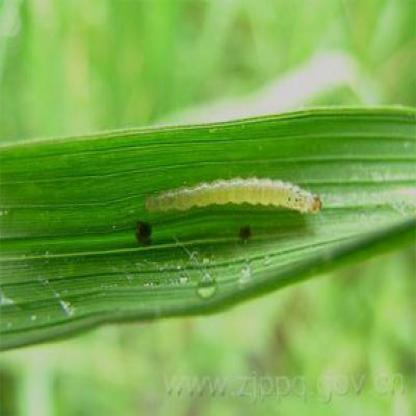leaf-folder: (138, 162, 327, 235)
